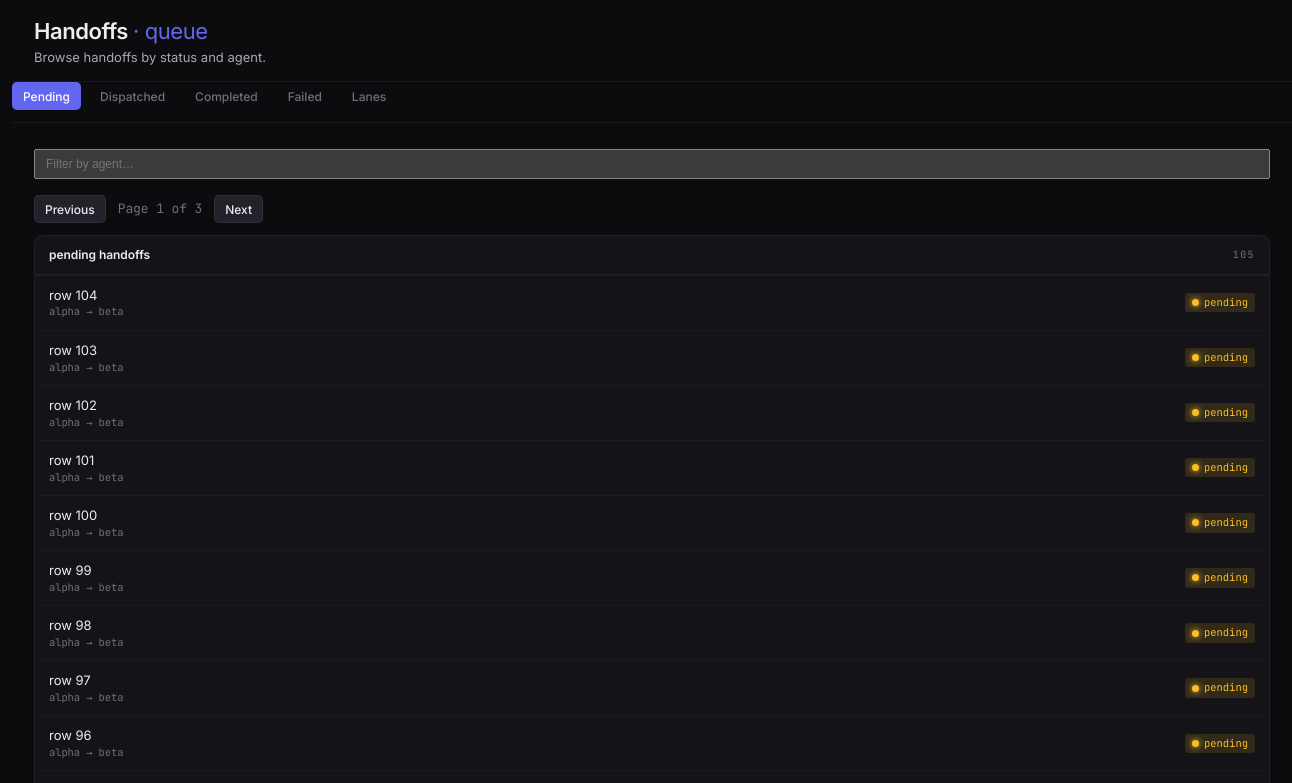
Test: HandoffList › paginates recent handoffs without mutating the response
What coordinates should you click on to do the following:
click the button with aria-label "Next handoff page"
I would click on:
 (239, 209)
Its box is top-left (214, 195), bottom-right (263, 223).
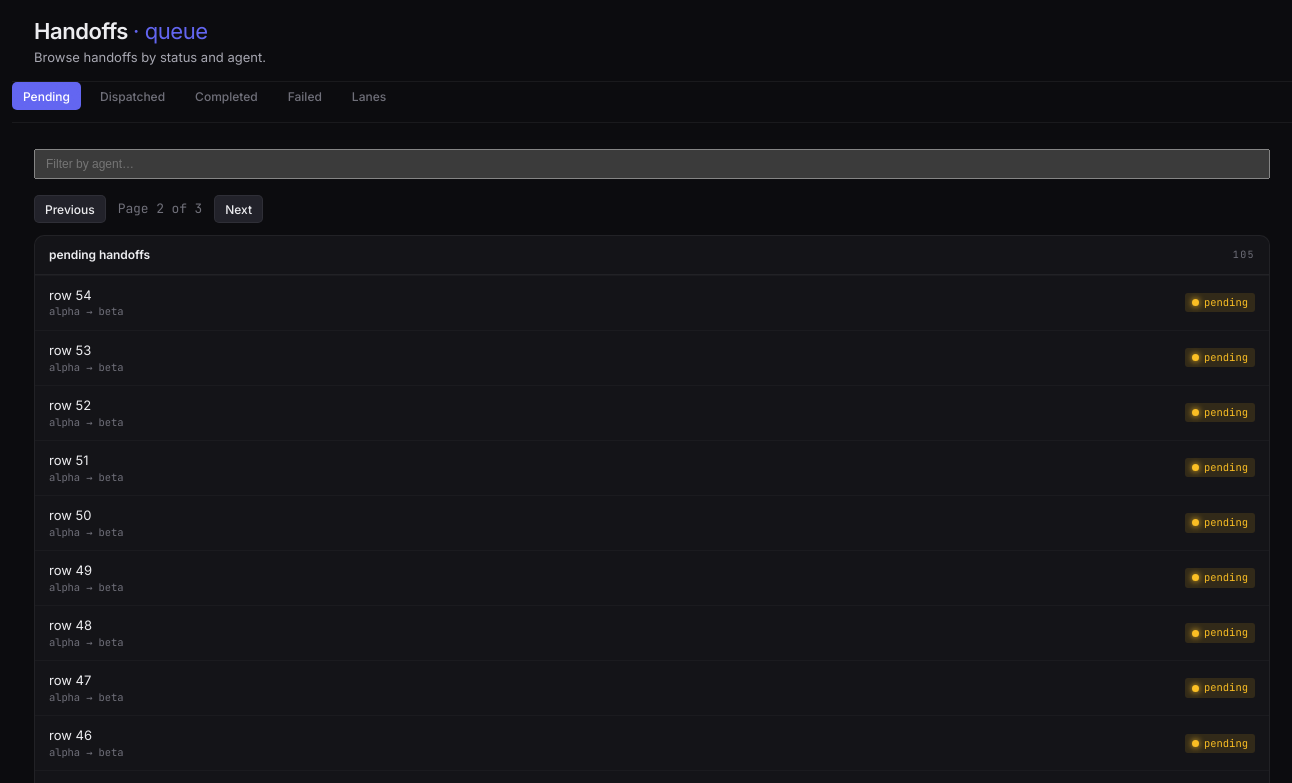
Check: the link with class "handoff-row" has attribute href="/handoffs/h-page-54", box top-left (35, 275), bottom-right (1269, 330)
What coordinates should you click on to do the following:
click the button with aria-label "Next handoff page"
I would click on:
 (239, 209)
Its box is top-left (214, 195), bottom-right (263, 223).
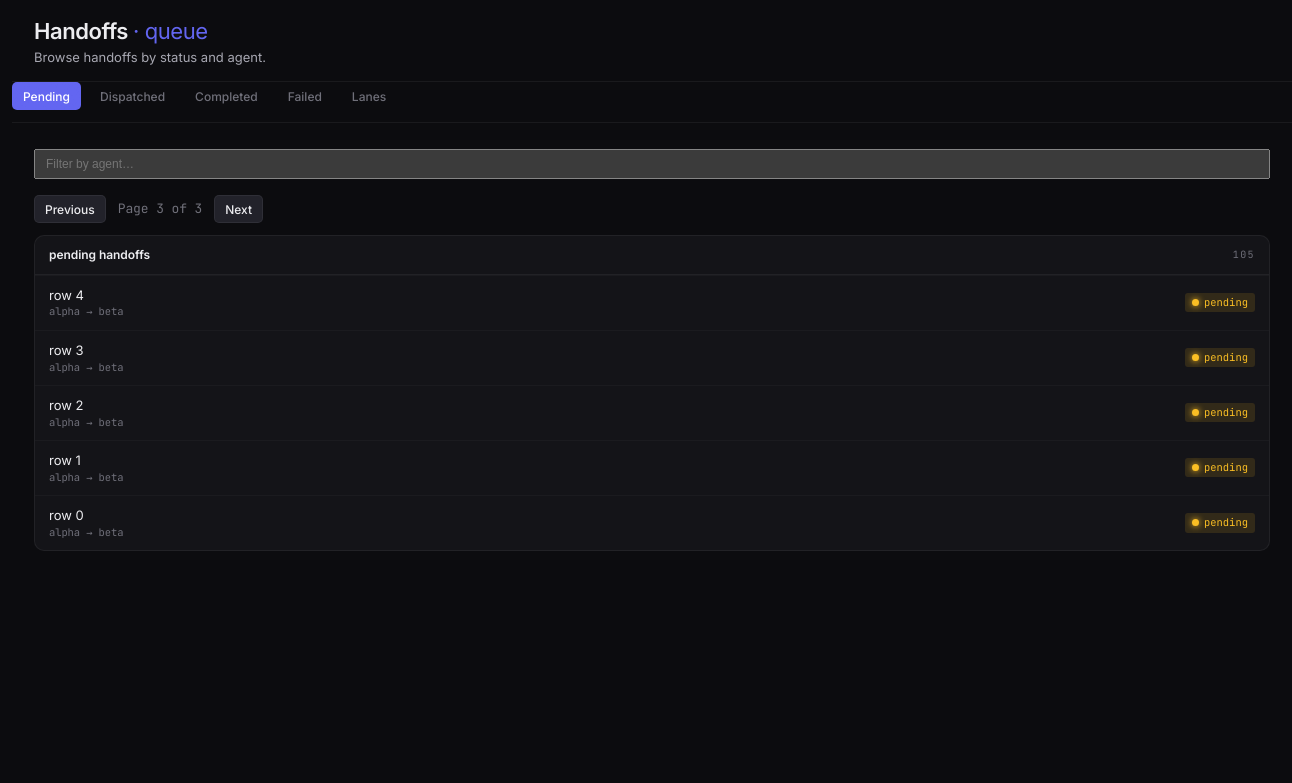
Check: the number of links with class "handoff-row" is 5, box top-left (35, 275), bottom-right (1269, 330); top-left (35, 330), bottom-right (1269, 385); top-left (35, 385), bottom-right (1269, 440); top-left (35, 440), bottom-right (1269, 495); top-left (35, 495), bottom-right (1269, 550)
What coordinates should you click on to do the following:
click the button with aria-label "Previous handoff page"
I would click on:
 (70, 209)
Its box is top-left (34, 195), bottom-right (106, 223).
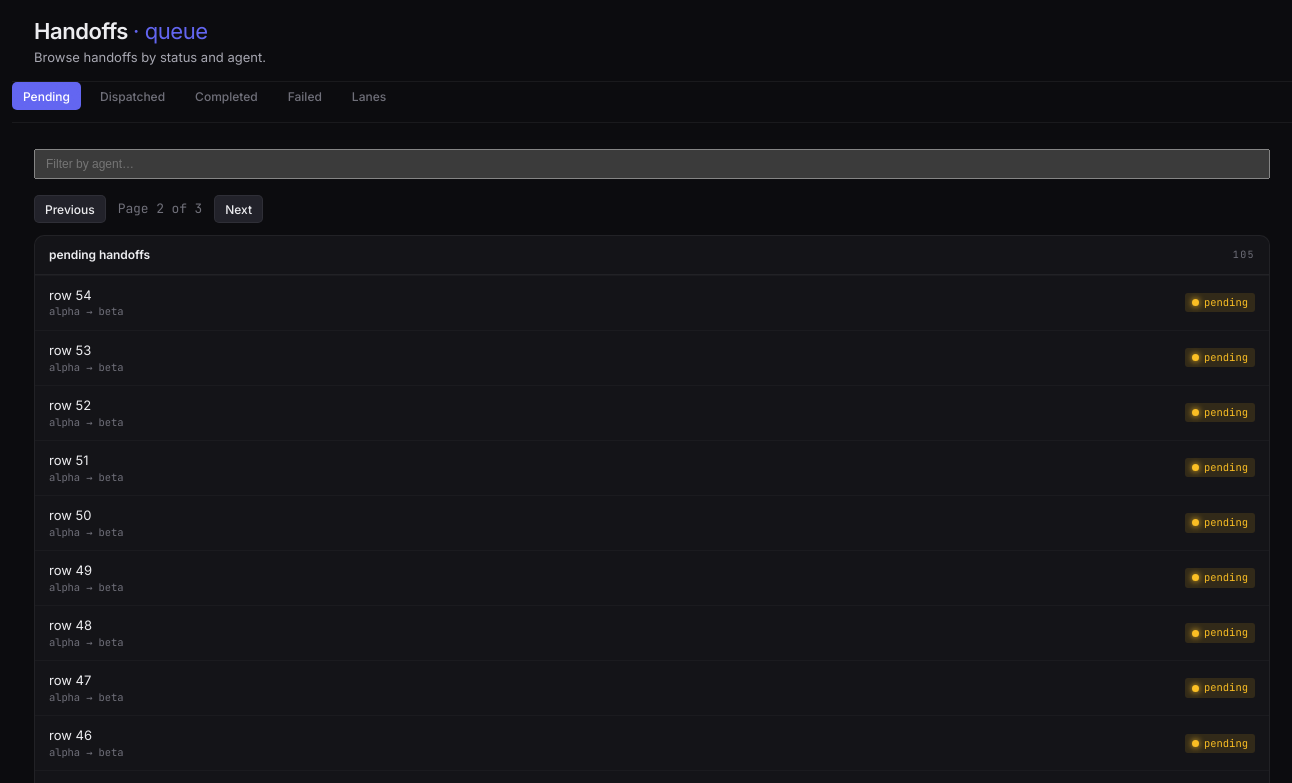
Check: the number of links with class "handoff-row" is 50
